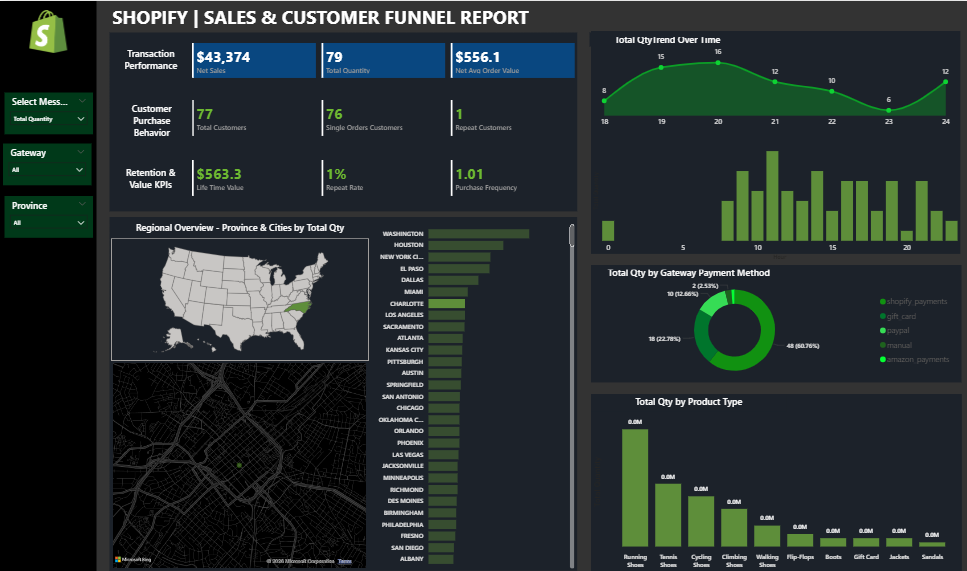

What the dashboard file says about the page in this screenshot:
{"tool":"powerbi","page":{"name":"Shopify Anylsis","canvas":[1700,1000],"ordinal":0},"visuals":[{"type":"shape","box":[193.2,379.5,820.5,620.5],"z":0},{"type":"shape","box":[0,0,169.6,1000],"z":1000},{"type":"textbox","box":[193.1,0,751.7,55.2],"z":2000},{"type":"shape","box":[193.1,55.2,820.7,313.8],"z":3000},{"type":"cardVisual","fields":{"Data":["shopify_sales.Net Sales","shopify_sales.Total Quantity","shopify_sales.Net Avg Order Value"]},"box":[336.4,72.7,677.3,61.4],"z":4000},{"type":"card","fields":{"Values":["shopify_sales.Transaction Performance"]},"box":[193.9,66.7,139.4,72.7],"z":5000},{"type":"cardVisual","fields":{"Data":["shopify_sales.Total Customers","shopify_sales.Single Orders Customers","shopify_sales.Repeat Customers"]},"box":[336.4,174.3,678.8,63.6],"z":6000},{"type":"card","fields":{"Values":["shopify_sales.Customer Purchase Behavior"]},"box":[193.9,160.6,142.4,90.9],"z":7000},{"type":"cardVisual","fields":{"Data":["shopify_sales.Life Time Value","shopify_sales.Repeat Rate","shopify_sales.Purchase Frequency"]},"box":[336.4,278.8,678.8,63.6],"z":8000},{"type":"card","fields":{"Values":["shopify_sales.Retention & Value KPIs"]},"box":[202.3,265.9,122.7,90.9],"z":9000},{"type":"slicer","fields":{"Values":["Select Messure.Select Messure"]},"box":[7.1,160.7,155.4,73.2],"z":10000},{"type":"shapeMap","fields":{"Value":["shopify_sales.Net Sales"],"Category":["shopify_sales.Billing Address Province"]},"box":[193.5,415.2,454.3,215.2],"z":11000},{"type":"map","fields":{"Category":["shopify_sales.Location"]},"box":[193.2,629.5,454.5,370.5],"z":12000},{"type":"barChart","fields":{"Y":["shopify_sales.Net Sales"],"Category":["shopify_sales.CITY"]},"box":[647.8,378.3,365.2,621.7],"z":13000},{"type":"card","fields":{"Values":["shopify_sales.Map Title"]},"box":[195.7,380.4,452.2,34.8],"z":14000},{"type":"shape","box":[1037.5,53.6,648.2,391.1],"z":15000},{"type":"areaChart","fields":{"Y":["shopify_sales.Net Sales"],"Category":["shopify_sales.Invoice Date.Variation.Date Hierarchy.Day"]},"box":[1050,65.6,625,159.4],"z":16000},{"type":"columnChart","fields":{"Y":["shopify_sales.Net Sales"],"Category":["shopify_sales.Hour"]},"box":[1039.3,235.7,646.4,217.9],"z":17000},{"type":"card","fields":{"Values":["shopify_sales.Trend Title"]},"box":[1034.1,56.1,273.2,24.4],"z":18000},{"type":"shape","box":[1037.5,462.5,650,206.2],"z":19000},{"type":"donutChart","fields":{"Y":["shopify_sales.Net Sales"],"Category":["shopify_sales.Gateway"]},"box":[1034.4,487.5,646.9,181.2],"z":20000},{"type":"card","fields":{"Values":["shopify_sales.Gateway Title"]},"box":[1036.9,463.1,343.1,24.6],"z":21000},{"type":"shape","box":[1036.9,689.2,650.8,310.8],"z":22000},{"type":"columnChart","fields":{"Y":["shopify_sales.Net Sales"],"Category":["shopify_sales.Product Type"]},"box":[1039,722,648.8,278],"z":23000},{"type":"card","fields":{"Values":["shopify_sales.Product Title"]},"box":[1037.5,689.3,342.9,30.4],"z":24000},{"type":"image","box":[41.5,17.1,85.4,75.6],"z":25000},{"type":"slicer","fields":{"Values":["shopify_sales.Gateway"]},"box":[5.4,250.9,155.4,73.2],"z":26000},{"type":"slicer","fields":{"Values":["shopify_sales.Billing Address Province"]},"box":[7.1,341.1,155.4,73.2],"z":27000}]}

Visuals, with their boxes on the page's 1700x1000 design canvas (x1, y1, x2, y2). These are canvas units, not pixel positions in the 967x571 screenshot, which may show the page scaled, cropped or inside an application window:
shape: <region>193, 380, 1014, 1000</region>
shape: <region>0, 0, 170, 1000</region>
textbox: <region>193, 0, 945, 55</region>
shape: <region>193, 55, 1014, 369</region>
cardVisual - shopify_sales.Net Sales x shopify_sales.Total Quantity: <region>336, 73, 1014, 134</region>
card - shopify_sales.Transaction Performance: <region>194, 67, 333, 139</region>
cardVisual - shopify_sales.Total Customers x shopify_sales.Single Orders Customers: <region>336, 174, 1015, 238</region>
card - shopify_sales.Customer Purchase Behavior: <region>194, 161, 336, 252</region>
cardVisual - shopify_sales.Life Time Value x shopify_sales.Repeat Rate: <region>336, 279, 1015, 342</region>
card - shopify_sales.Retention & Value KPIs: <region>202, 266, 325, 357</region>
slicer - Select Messure.Select Messure: <region>7, 161, 162, 234</region>
shapeMap - shopify_sales.Net Sales x shopify_sales.Billing Address Province: <region>194, 415, 648, 630</region>
map - shopify_sales.Location: <region>193, 630, 648, 1000</region>
barChart - shopify_sales.Net Sales x shopify_sales.CITY: <region>648, 378, 1013, 1000</region>
card - shopify_sales.Map Title: <region>196, 380, 648, 415</region>
shape: <region>1038, 54, 1686, 445</region>
areaChart - shopify_sales.Net Sales x shopify_sales.Invoice Date.Variation.Date Hierarchy.Day: <region>1050, 66, 1675, 225</region>
columnChart - shopify_sales.Net Sales x shopify_sales.Hour: <region>1039, 236, 1686, 454</region>
card - shopify_sales.Trend Title: <region>1034, 56, 1307, 80</region>
shape: <region>1038, 462, 1688, 669</region>
donutChart - shopify_sales.Net Sales x shopify_sales.Gateway: <region>1034, 488, 1681, 669</region>
card - shopify_sales.Gateway Title: <region>1037, 463, 1380, 488</region>
shape: <region>1037, 689, 1688, 1000</region>
columnChart - shopify_sales.Net Sales x shopify_sales.Product Type: <region>1039, 722, 1688, 1000</region>
card - shopify_sales.Product Title: <region>1038, 689, 1380, 720</region>
image: <region>42, 17, 127, 93</region>
slicer - shopify_sales.Gateway: <region>5, 251, 161, 324</region>
slicer - shopify_sales.Billing Address Province: <region>7, 341, 162, 414</region>
